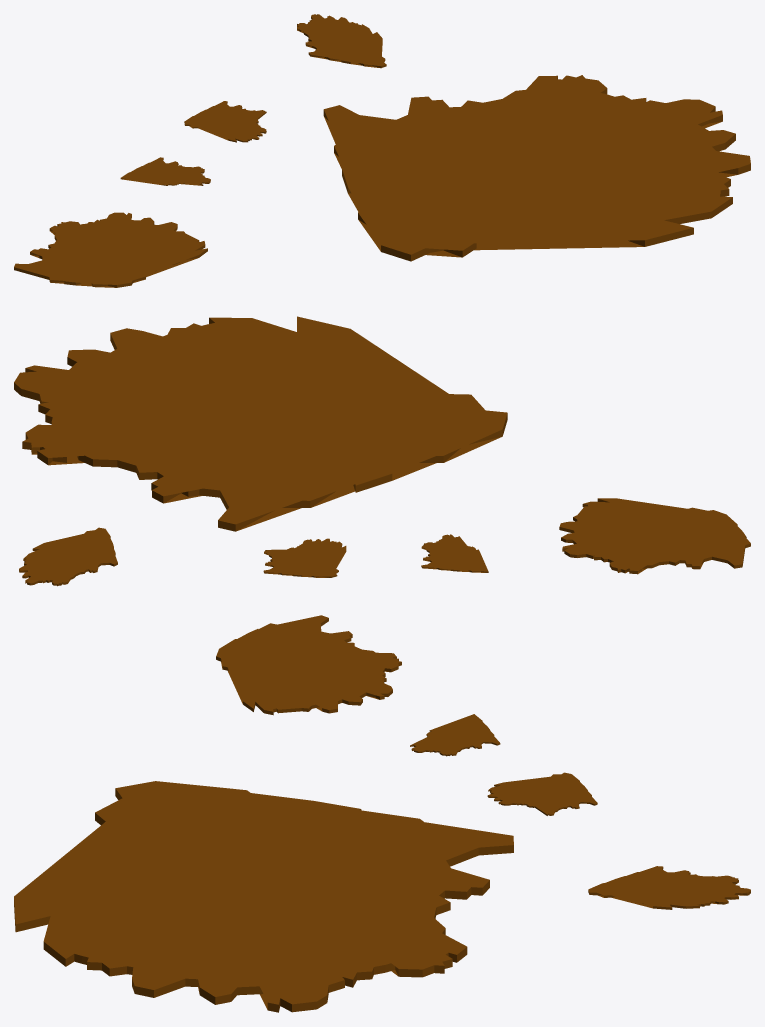
The model's file is dirt stain.fbx.
3 renders of one model, top to bottom at view 1: azimuth 30°, elevation 25°; view 2: azimuth 150°, elevation 25°; view 3: azimuth 270°, elevation 25°, orthographic. The views are drawn at different scales.
Visible parts, largest first — view 1: Circle; view 2: Circle; view 3: Circle.
Boxes of the visible parts, x1=… form: Circle: x1=14, y1=14, x2=750, y2=287; Circle: x1=14, y1=316, x2=750, y2=586; Circle: x1=14, y1=615, x2=750, y2=1012.
Bounding box in the file's own units: 385 × 3.62 × 306.
